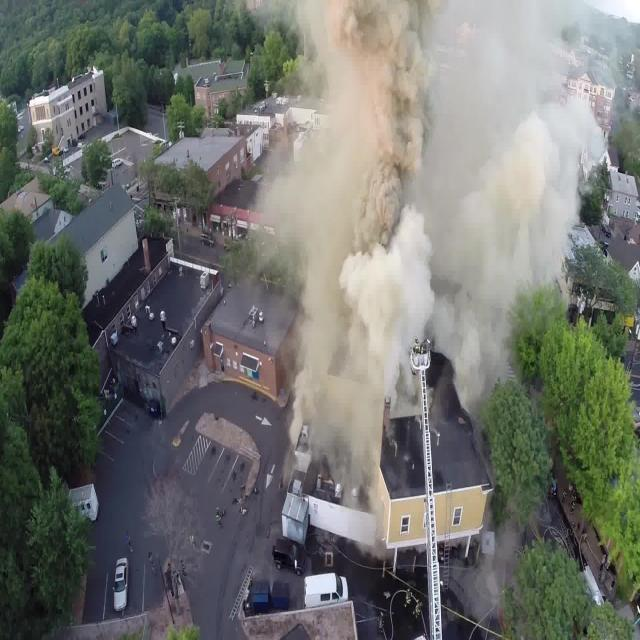Smoke: (261, 0, 603, 508)
